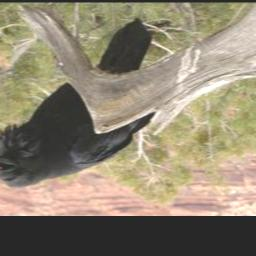Crow: (0, 17, 156, 188)
